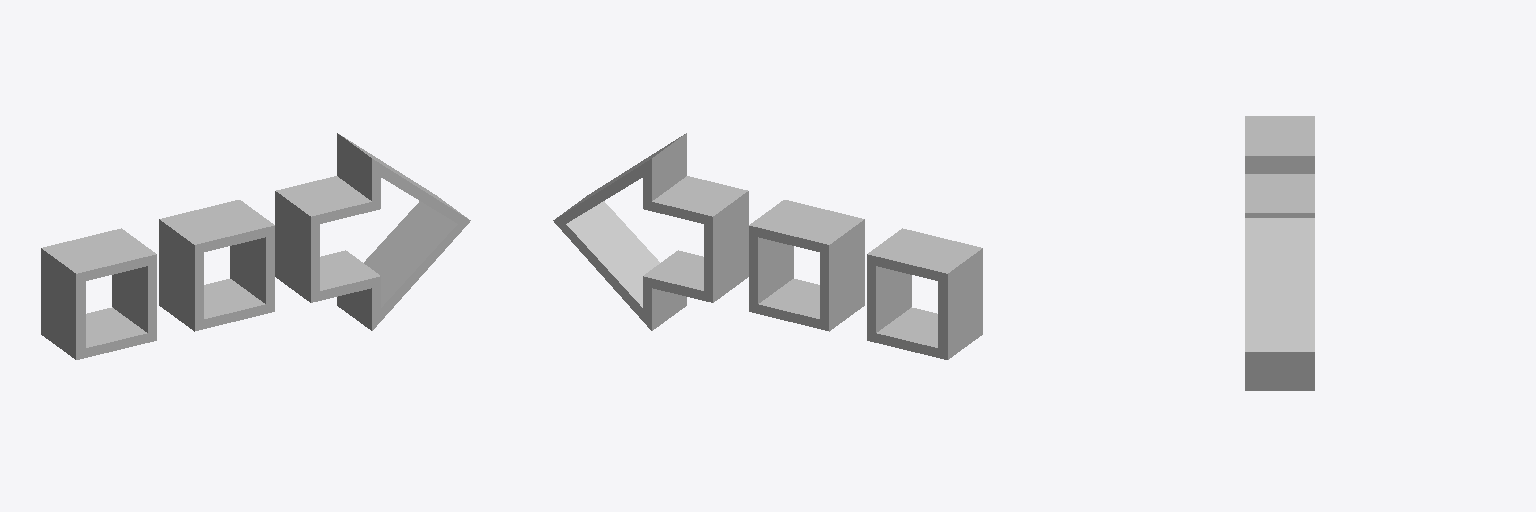
Rendered from Arrow_7.obj.
3 views of the same model, side by side, from view 1: azimuth 30°, elevation 25°; view 2: azimuth 150°, elevation 25°; view 3: azimuth 270°, elevation 25° (orthographic).
Visible parts, largest first — view 1: Arrow_7; view 2: Arrow_7; view 3: Arrow_7.
Boxes of the visible parts, <box> form: Arrow_7: <box>41,133,470,359</box>; Arrow_7: <box>553,133,982,359</box>; Arrow_7: <box>1245,116,1314,390</box>.
Bounding box in the file's own units: 4.78 × 2 × 0.7423.